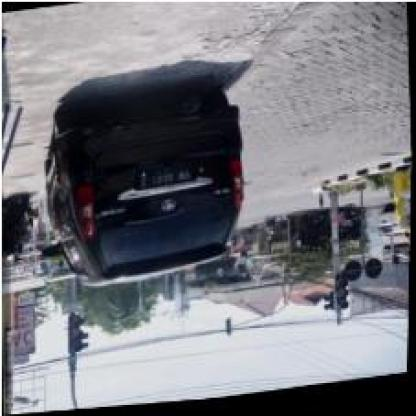yellow: (66, 314, 84, 356), (334, 278, 351, 316)
